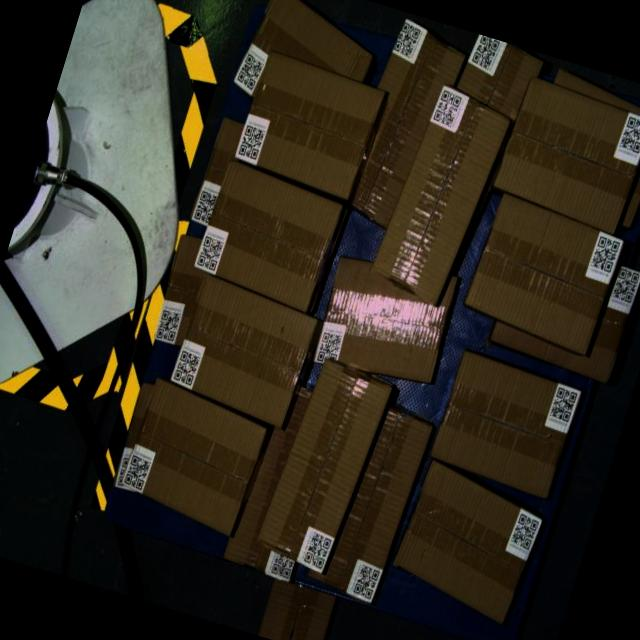box: (365, 79, 515, 311), (252, 354, 394, 578), (385, 458, 550, 627), (459, 191, 626, 356), (115, 377, 271, 537), (489, 74, 640, 236), (190, 157, 346, 313), (166, 272, 320, 428), (426, 348, 584, 500), (232, 50, 386, 202)
